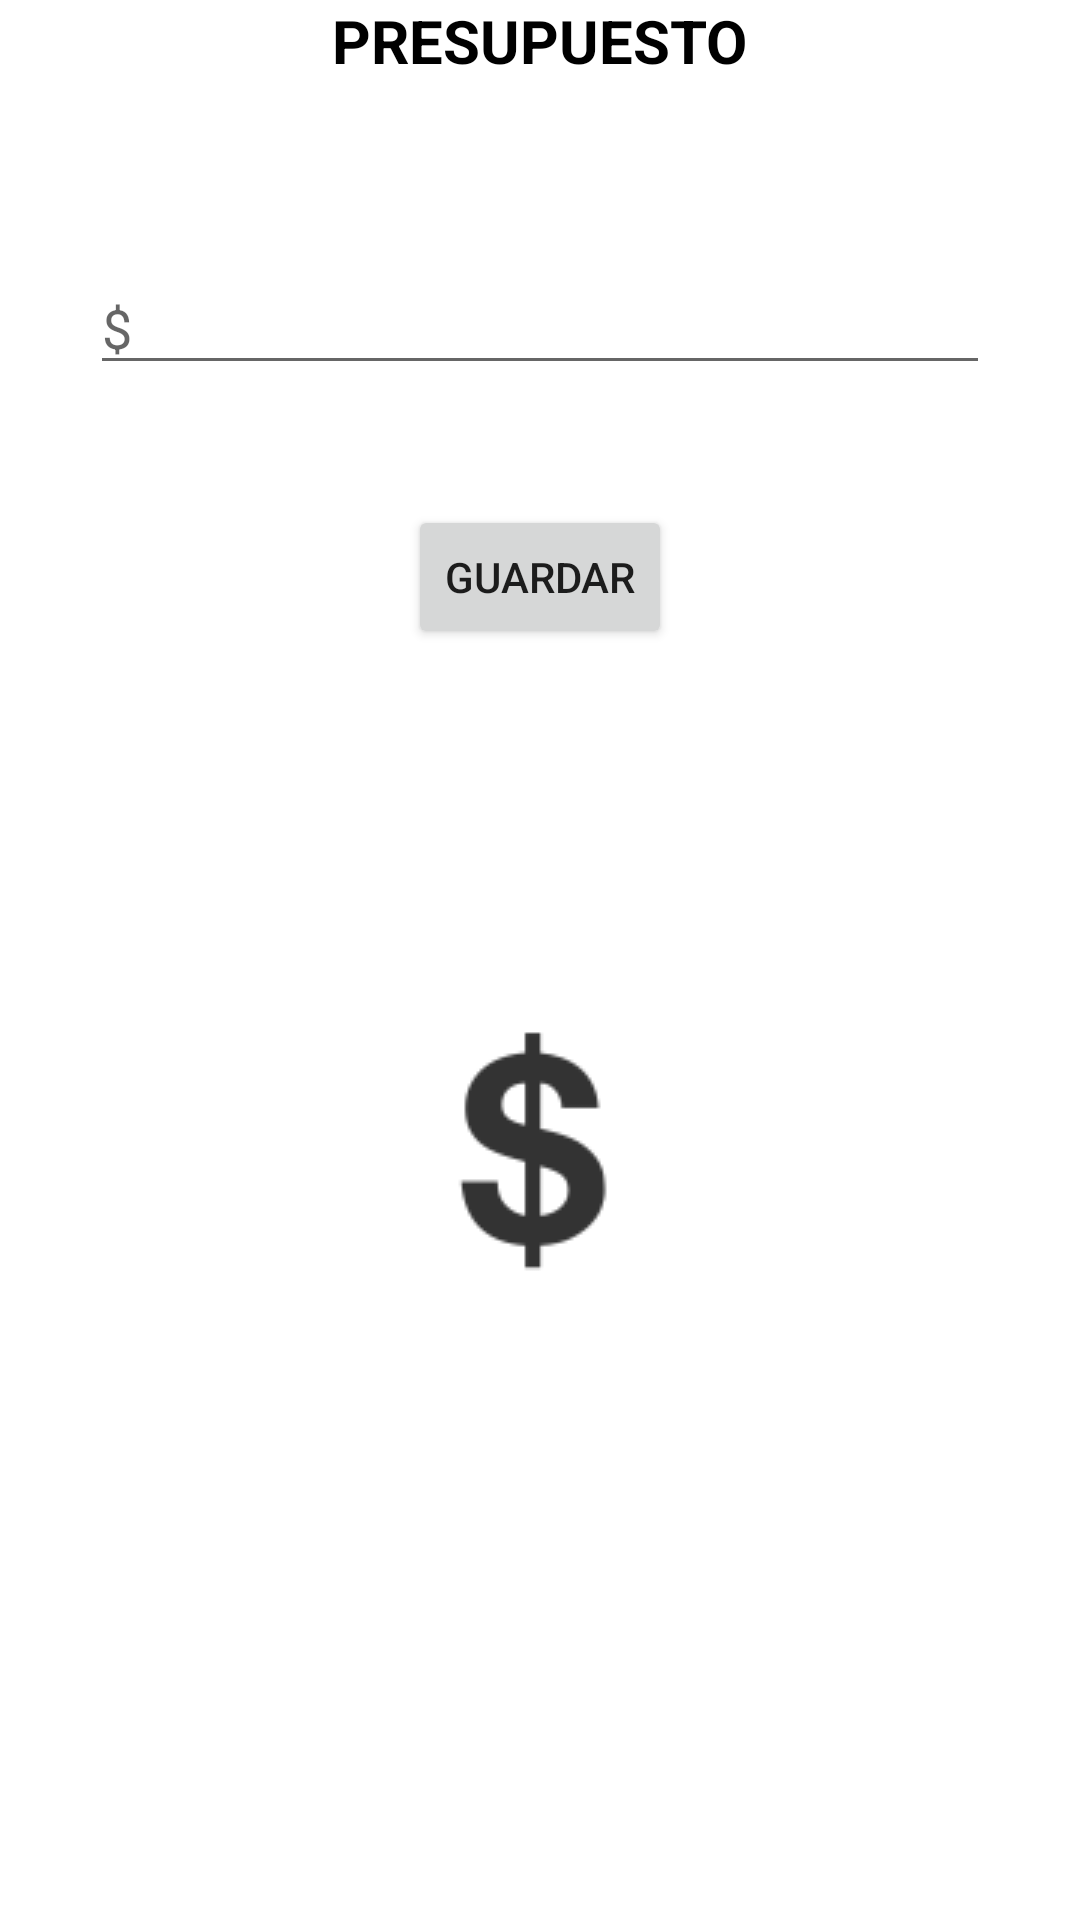

Locate icon controls on the screen. Image size 1080px x 1920px, boxes as (x1, y1, x2, y2).
dinero: (460, 1032, 607, 1270)
